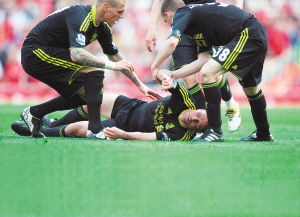falling: (10, 72, 217, 145)
